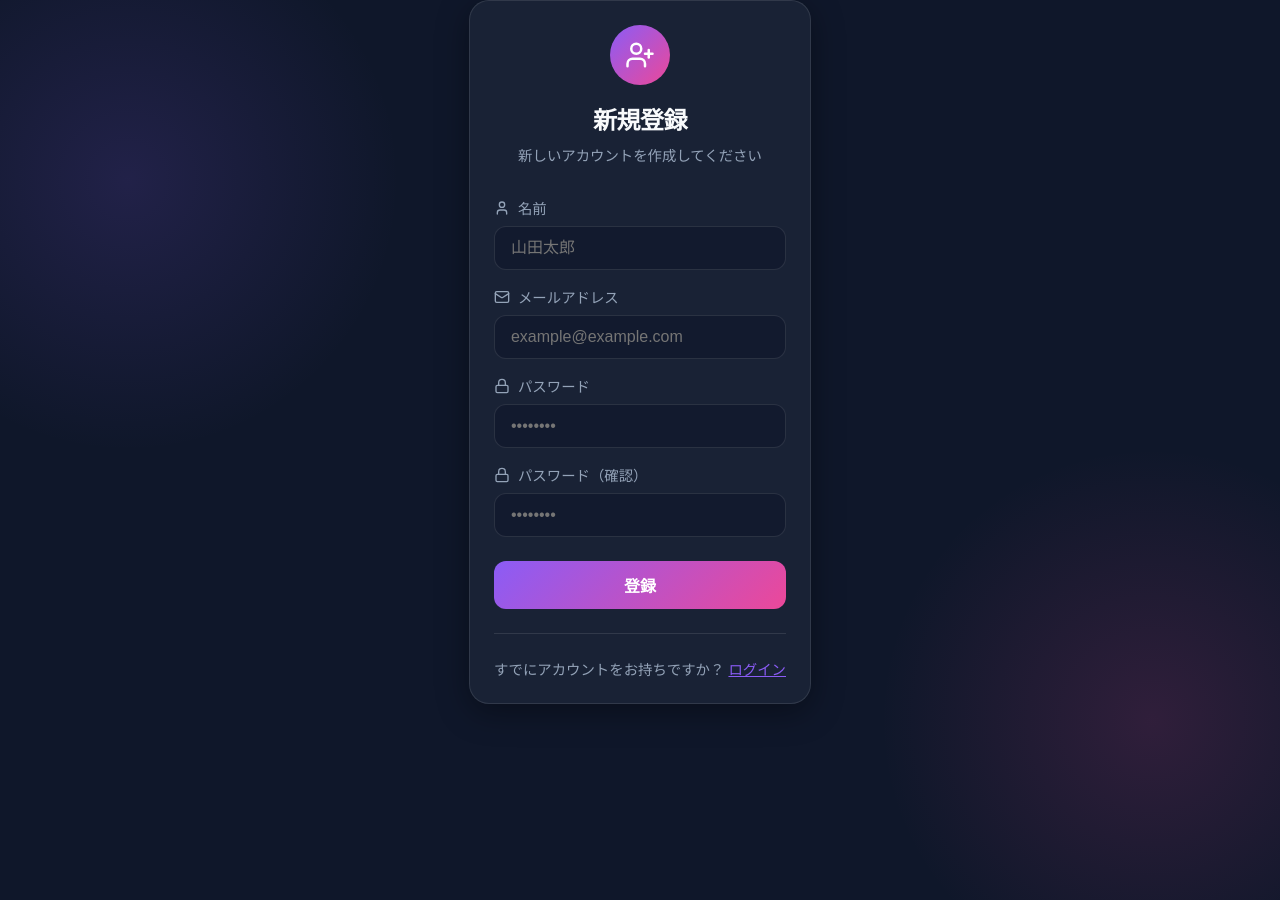
Test case: RegisterForm Component › 登録中はボタンテキストが変わる
Type "テストユーザー" into the field with placeholder "山田太郎".
click(640, 248); type("テストユーザー")  # box [494,226,786,270]
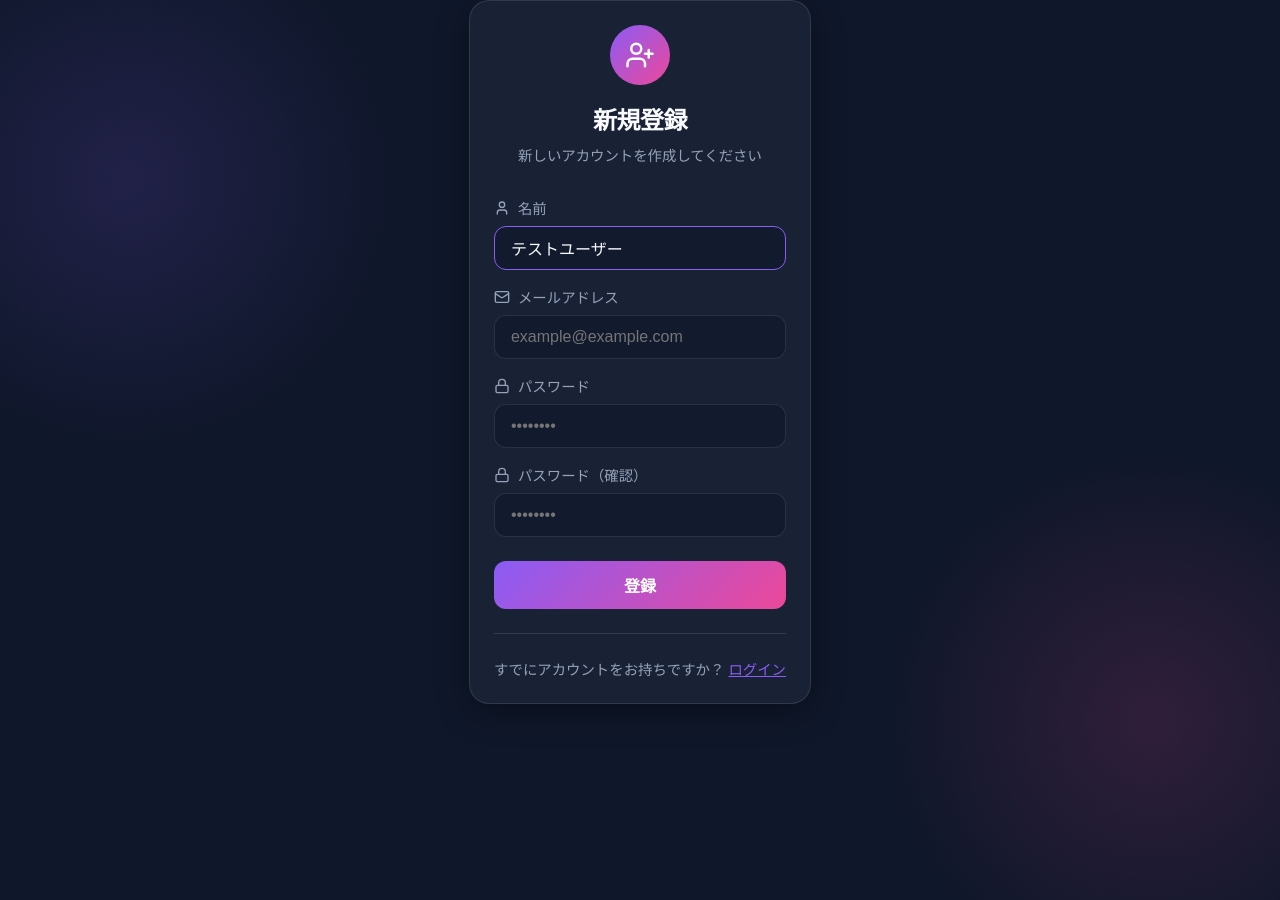
Type "test@example.com" into the field with placeholder "example@example.com".
click(640, 337); type("test@example.com")  # box [494,315,786,359]
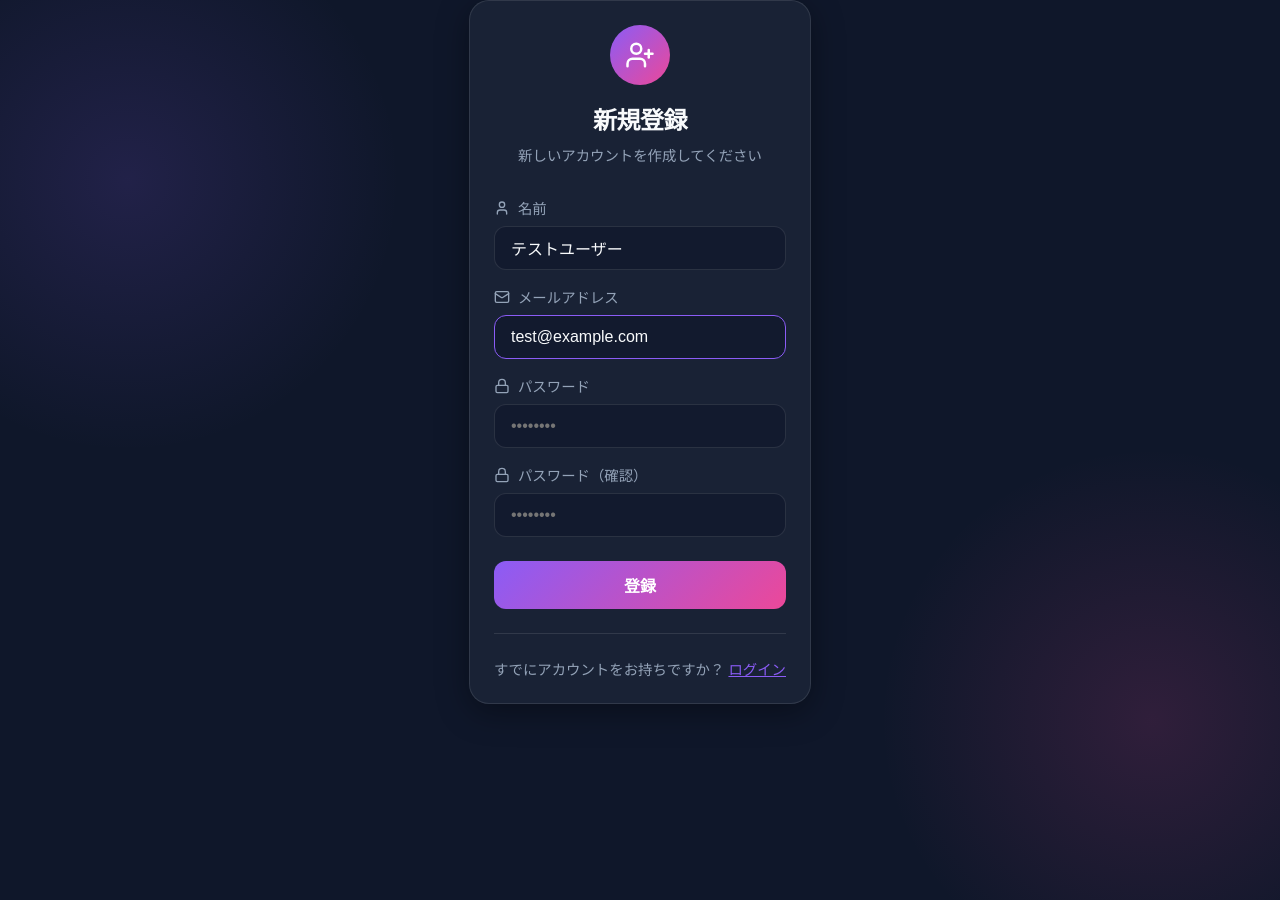
Type "password123" into the 1st password field with placeholder "••••••••".
click(640, 426); type("password123")  # box [494,404,786,448]
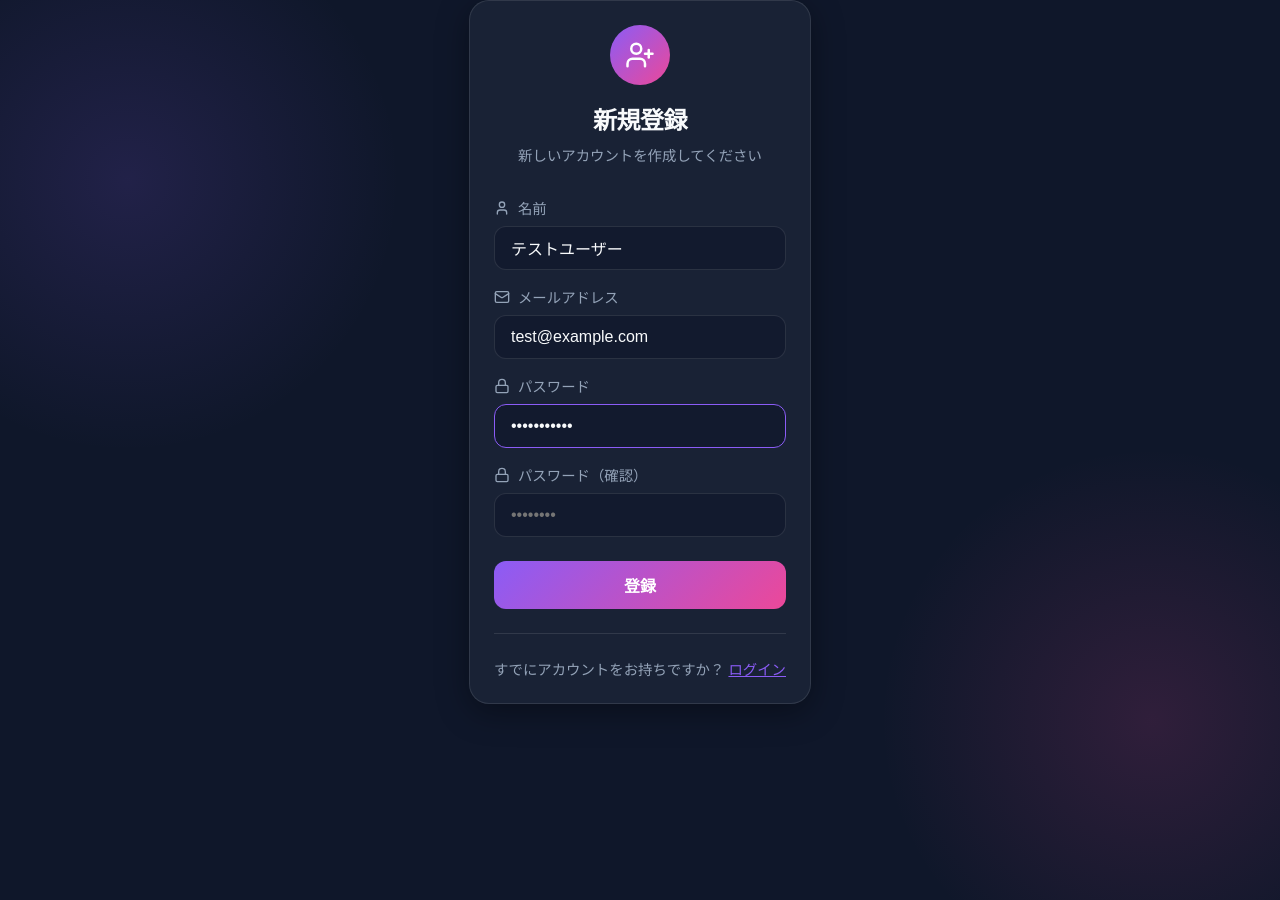
Type "password123" into the password field with placeholder "••••••••".
click(640, 515); type("password123")  # box [494,493,786,537]
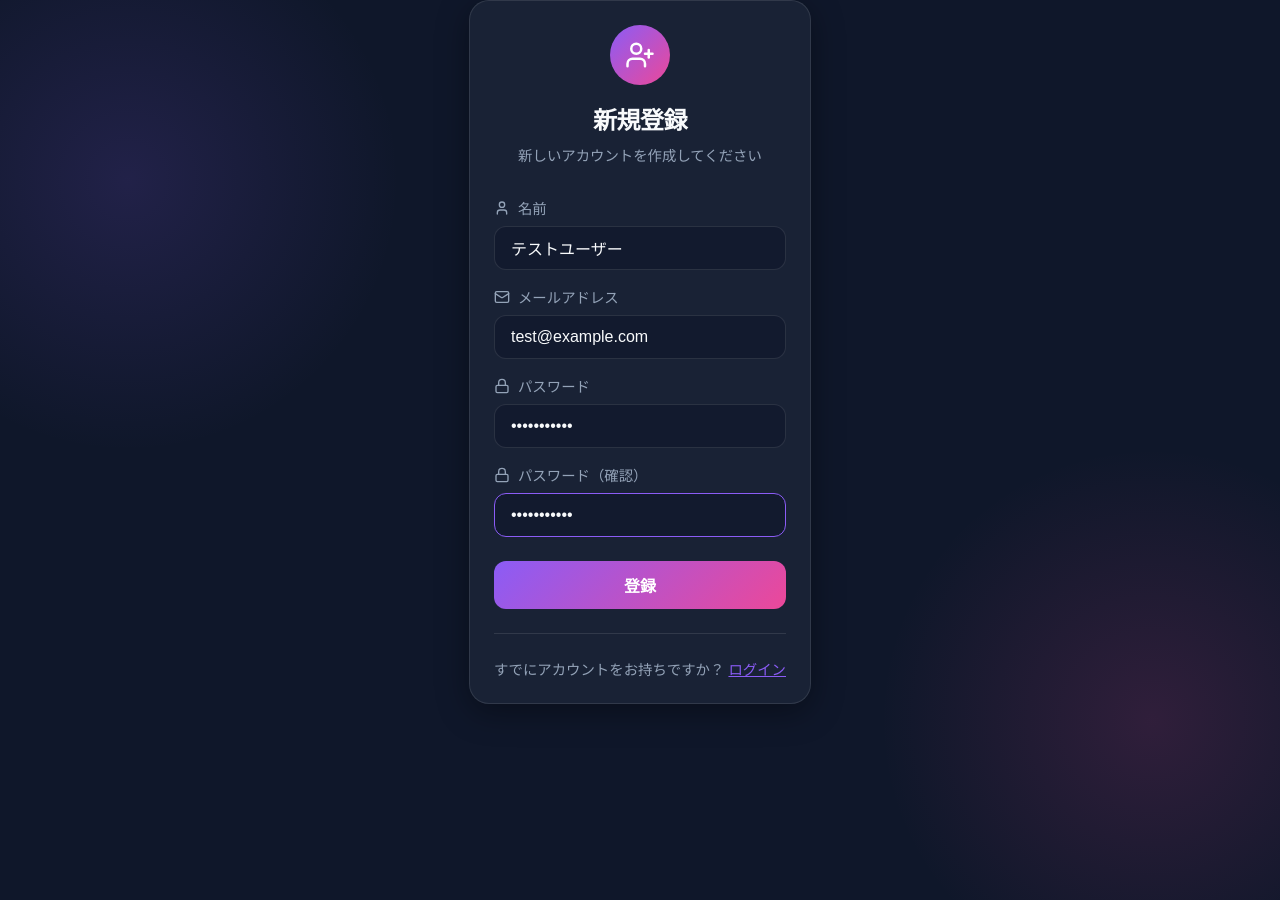
Click the button "登録".
click(640, 585)  # box [494,561,786,609]
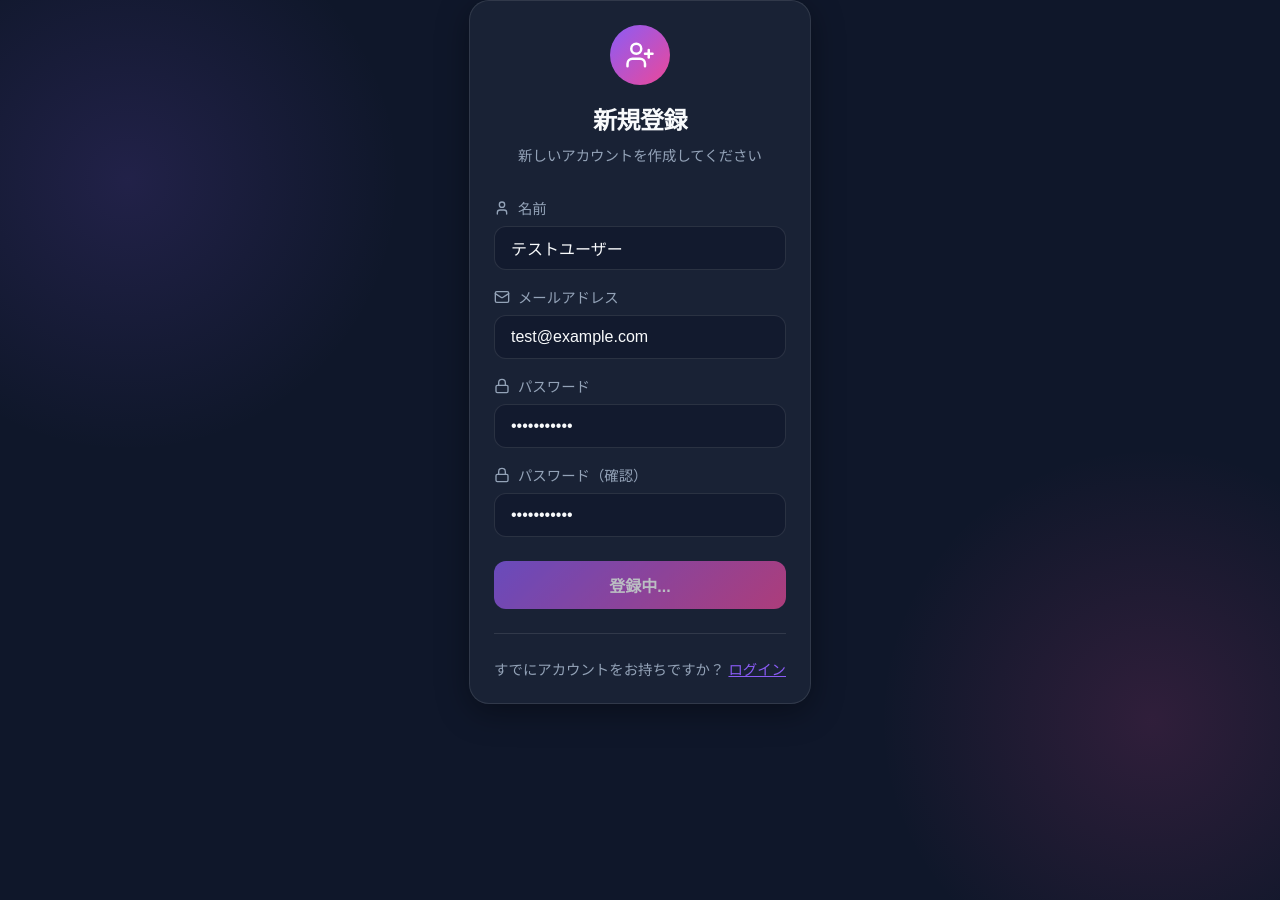
Expected: the button "登録中..." is shown, [494,561,786,609]
